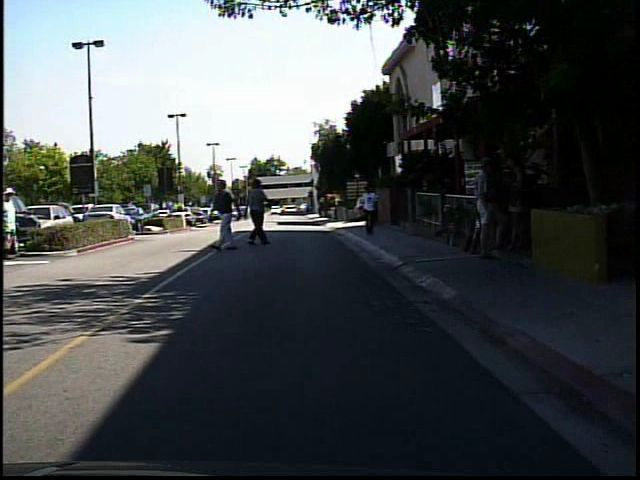person: (466, 149, 506, 263), (499, 155, 529, 255), (211, 175, 245, 253), (243, 174, 276, 249), (4, 182, 26, 262), (356, 178, 384, 238), (173, 195, 188, 227), (245, 199, 261, 224)
